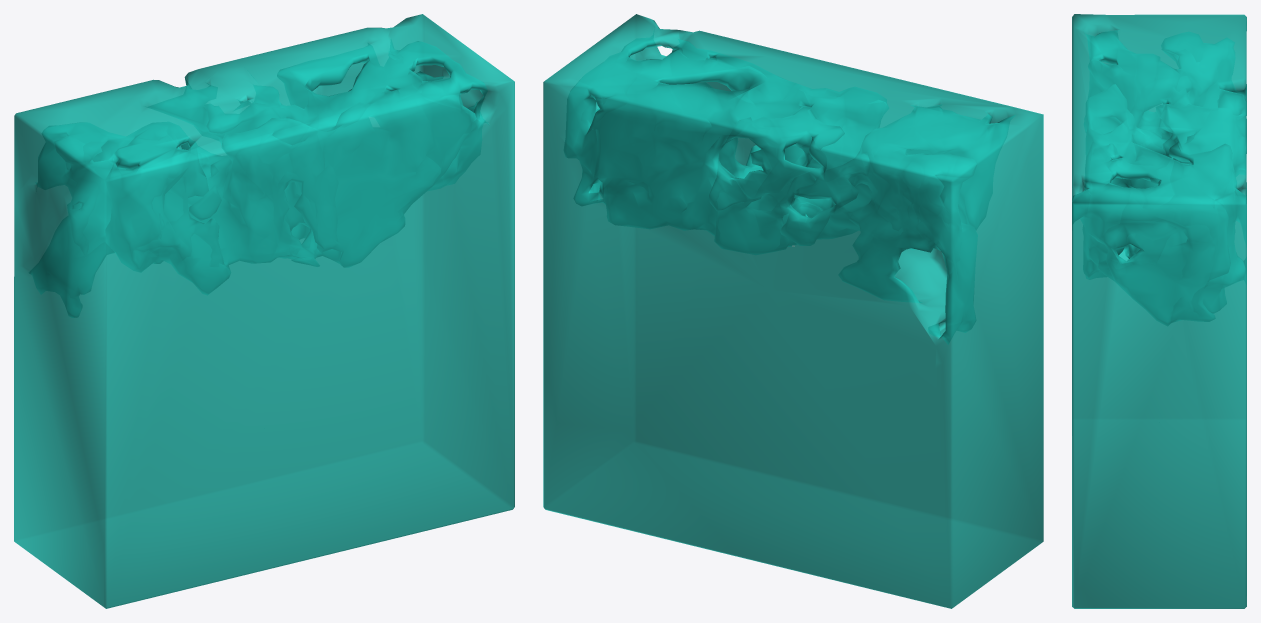
3 renders of one model, left to right at view 1: azimuth 30°, elevation 25°; view 2: azimuth 150°, elevation 25°; view 3: azimuth 270°, elevation 25°, orthographic. The views are drawn at different scales.
Visible parts, largest first — view 1: Liquid_Domain; view 2: Liquid_Domain; view 3: Liquid_Domain.
Part boxes in pixels (x1,y1,x2,y2): Liquid_Domain: [14, 14, 514, 608]; Liquid_Domain: [543, 14, 1043, 608]; Liquid_Domain: [1072, 14, 1246, 608].
Size of the model in its own units: 884 by 884 by 344.
